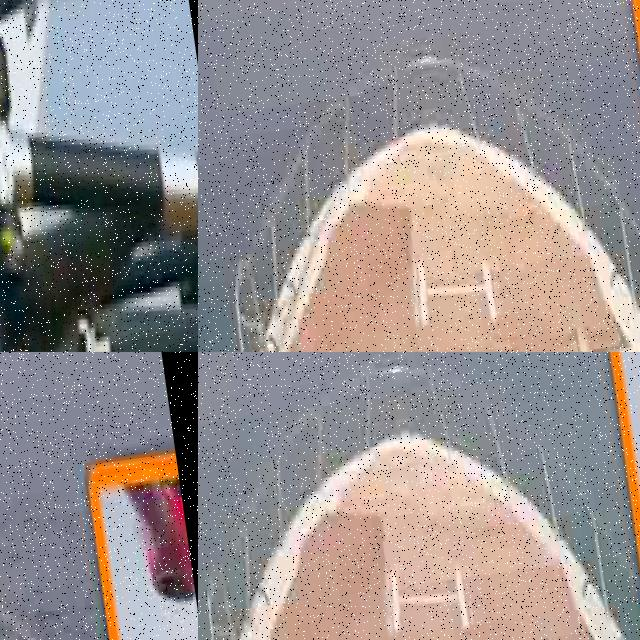drone: (0, 0, 198, 352)
